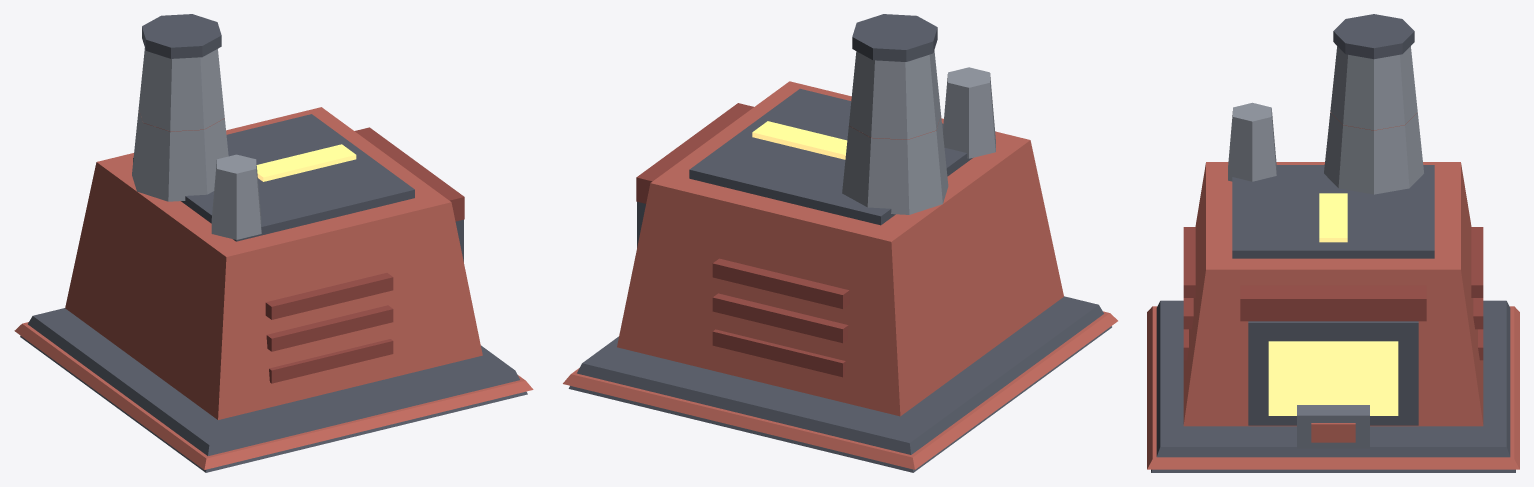
Rendered from smelter.glb.
The picture shows the model from 3 angles, left to right: view 1: azimuth 30°, elevation 25°; view 2: azimuth 150°, elevation 25°; view 3: azimuth 270°, elevation 25°; orthographic projection. The views are drawn at different scales.
Visible parts, largest first — view 1: Body, GlowVent; view 2: Body, GlowVent; view 3: Body, GlowMouth, GlowVent.
Part boxes in pixels (x1,y1,x2,y2): Body: (14, 14, 533, 472); GlowVent: (256, 144, 356, 181); Body: (563, 14, 1117, 472); GlowVent: (752, 121, 847, 159); Body: (1147, 14, 1519, 472); GlowMouth: (1268, 341, 1398, 415); GlowVent: (1319, 193, 1347, 242).
Bounding box in the file's own units: 0.948 × 0.9 × 0.92.
